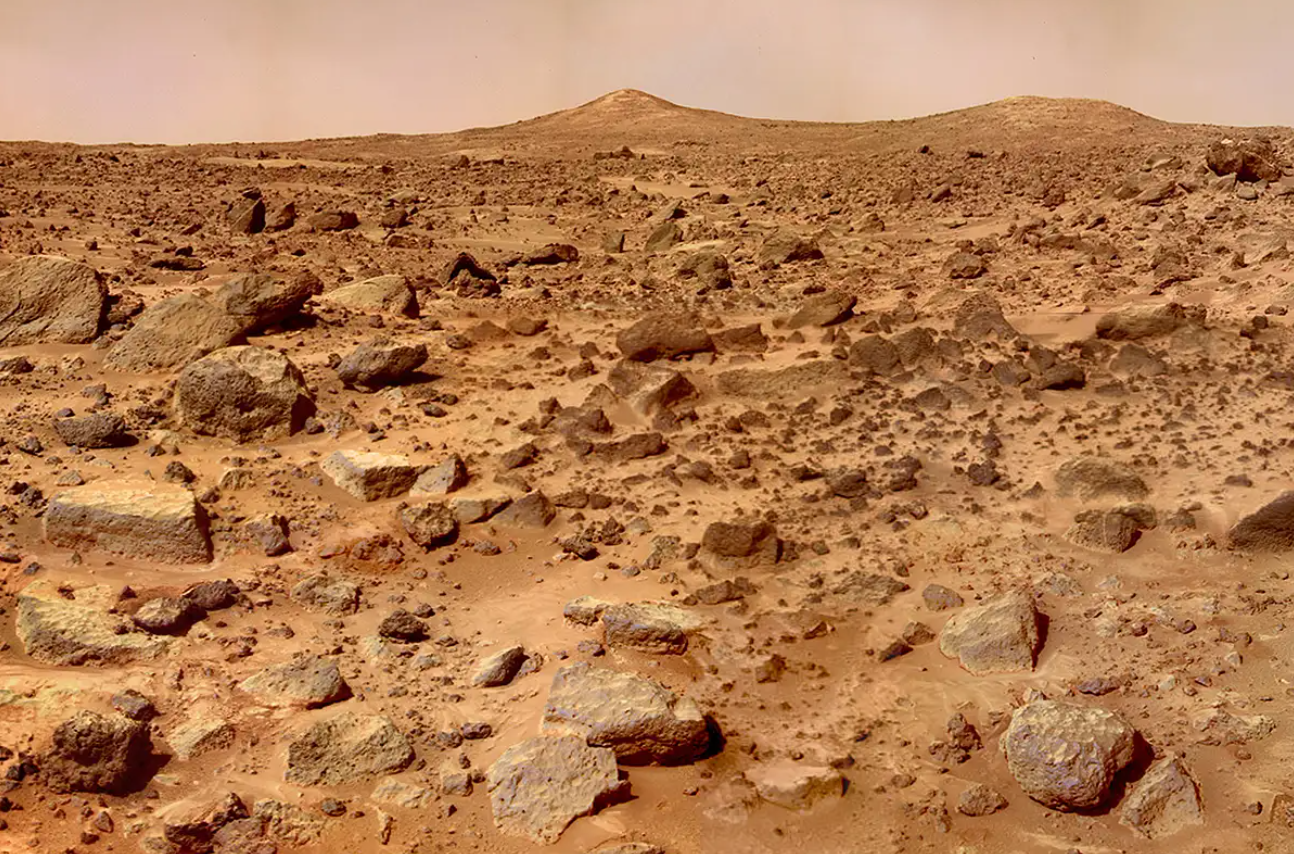rocks: (543, 663, 710, 763), (1001, 699, 1135, 809), (486, 736, 625, 842), (43, 482, 210, 562), (175, 347, 314, 440), (15, 581, 168, 665), (104, 293, 243, 370), (0, 254, 107, 343), (285, 712, 413, 784), (40, 710, 150, 792), (939, 591, 1039, 674), (210, 272, 321, 333), (1119, 757, 1203, 836), (240, 656, 349, 707), (744, 760, 843, 809), (607, 360, 696, 414), (322, 449, 418, 499), (336, 337, 426, 389), (615, 313, 712, 361), (601, 604, 686, 654), (318, 274, 418, 316), (1097, 302, 1203, 340), (1229, 490, 1293, 551), (1065, 504, 1146, 551), (1055, 458, 1147, 499), (165, 707, 235, 759), (701, 520, 780, 562), (1205, 138, 1282, 181), (290, 572, 357, 614), (132, 596, 203, 634), (53, 413, 132, 447), (399, 502, 457, 548), (410, 454, 468, 497), (786, 291, 855, 327), (492, 491, 554, 527), (757, 229, 822, 262), (471, 645, 525, 684), (677, 251, 730, 288), (378, 608, 428, 642), (957, 782, 1007, 815), (519, 242, 579, 264), (228, 197, 264, 233), (943, 251, 986, 278), (644, 220, 682, 250), (922, 583, 962, 610), (304, 209, 357, 229)
